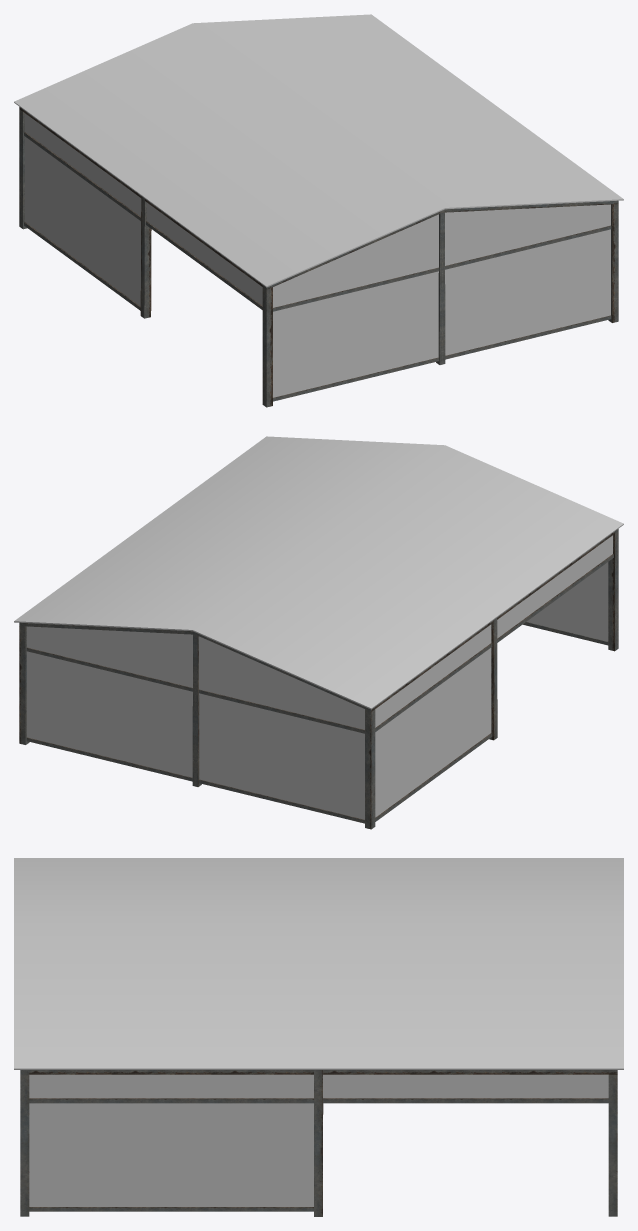
Rendered from MetalShedB.FBX.
3 views of the same model, one above another, from view 1: azimuth 30°, elevation 25°; view 2: azimuth 150°, elevation 25°; view 3: azimuth 270°, elevation 25° (orthographic). The views are drawn at different scales.
Parts seen in each view (by area): view 1: MetalShedB; view 2: MetalShedB; view 3: MetalShedB.
Part boxes in pixels (left/top/right/bottom): MetalShedB: left=14, top=14, right=623, bottom=407; MetalShedB: left=14, top=436, right=623, bottom=829; MetalShedB: left=14, top=858, right=623, bottom=1216.
Size of the model in its own units: 1248 by 529 by 1526.
